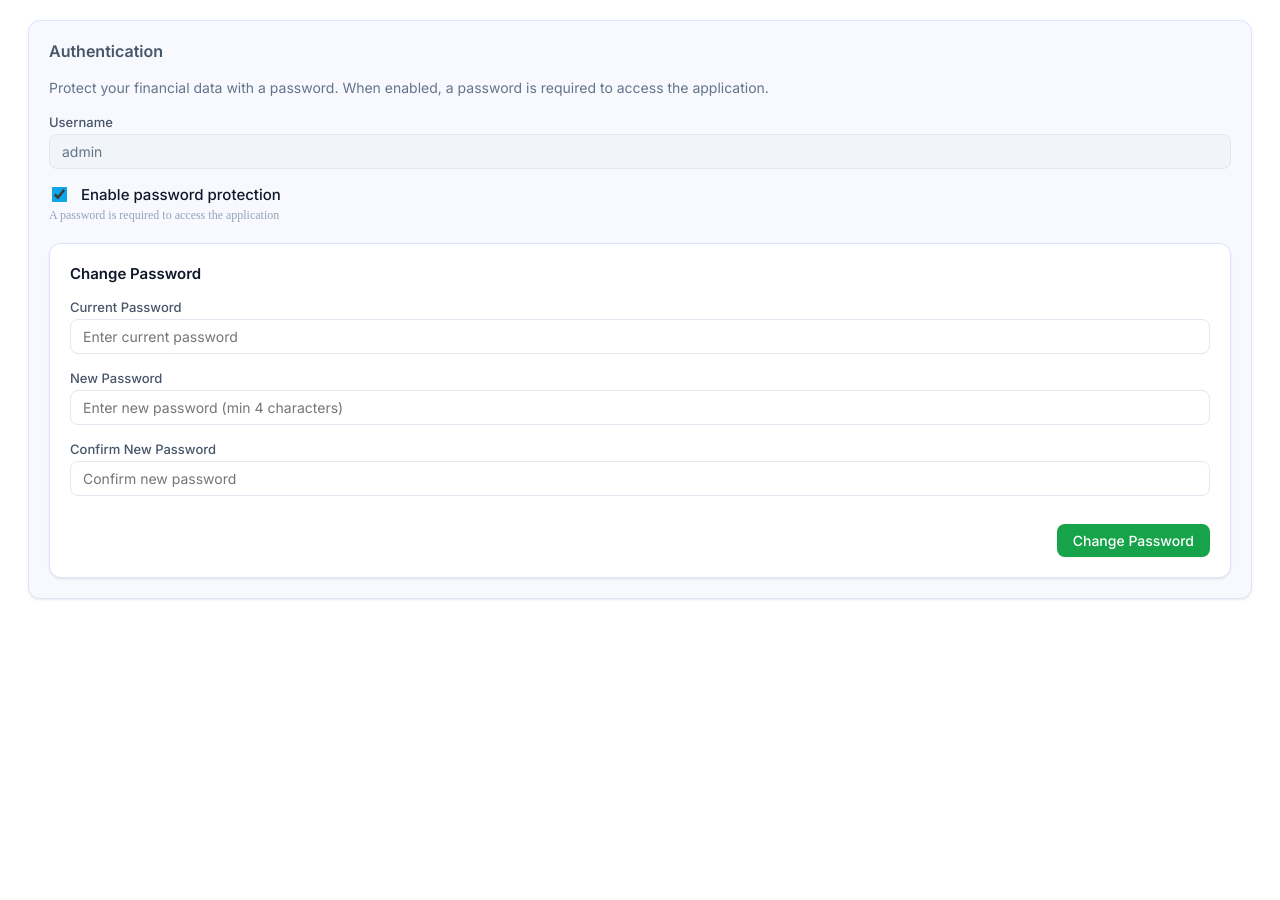
it: SecuritySettings › Change password (Password_Gate active, toggle stays ON) › should show success message after password change
Type "oldpass" into the password field labelled "Current Password" at (640, 336), box [70, 319, 1210, 354]
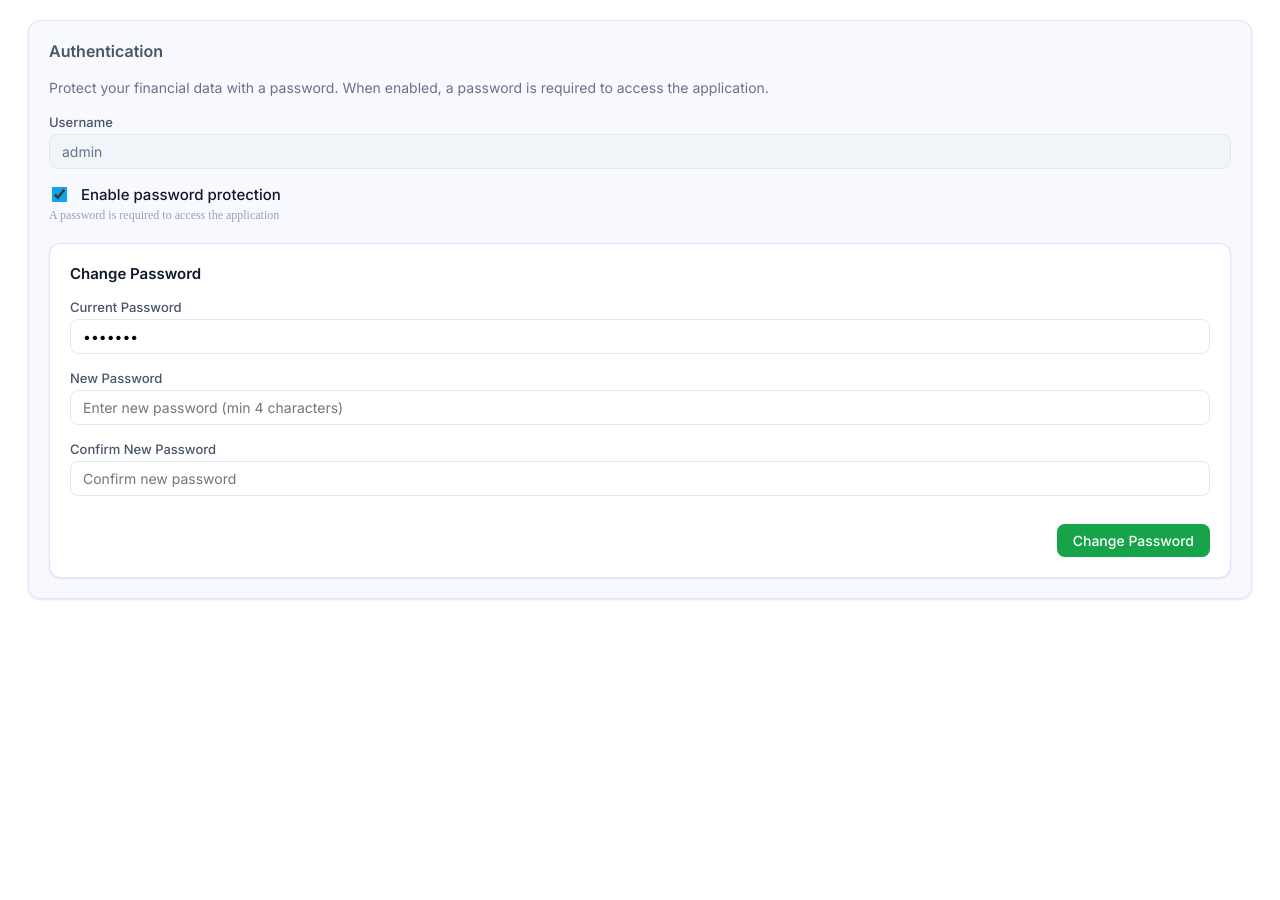
Type "newpass1" into the password field labelled "New Password" at (640, 408), box [70, 390, 1210, 425]
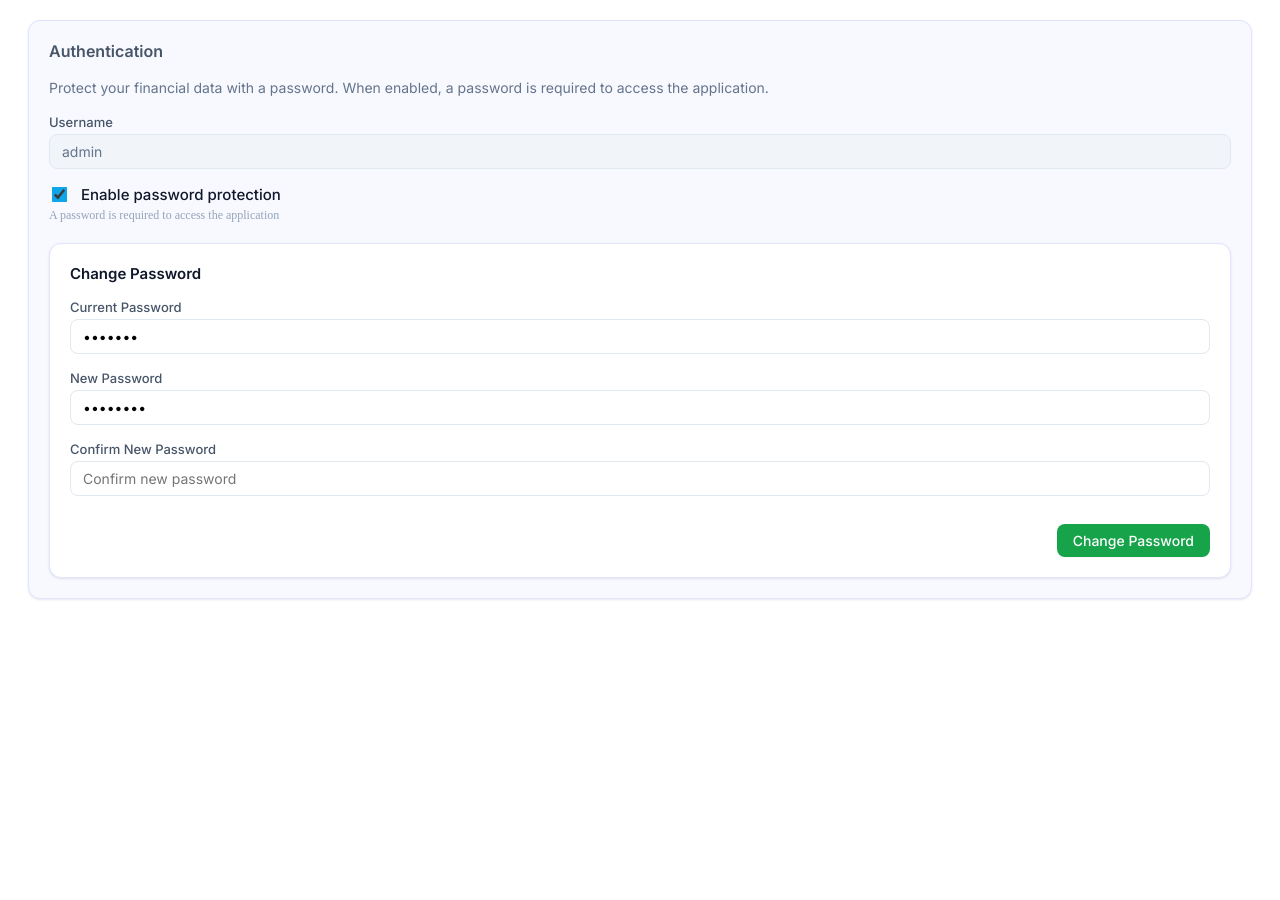
Type "newpass1" into the password field labelled "Confirm New Password" at (640, 478), box [70, 461, 1210, 496]
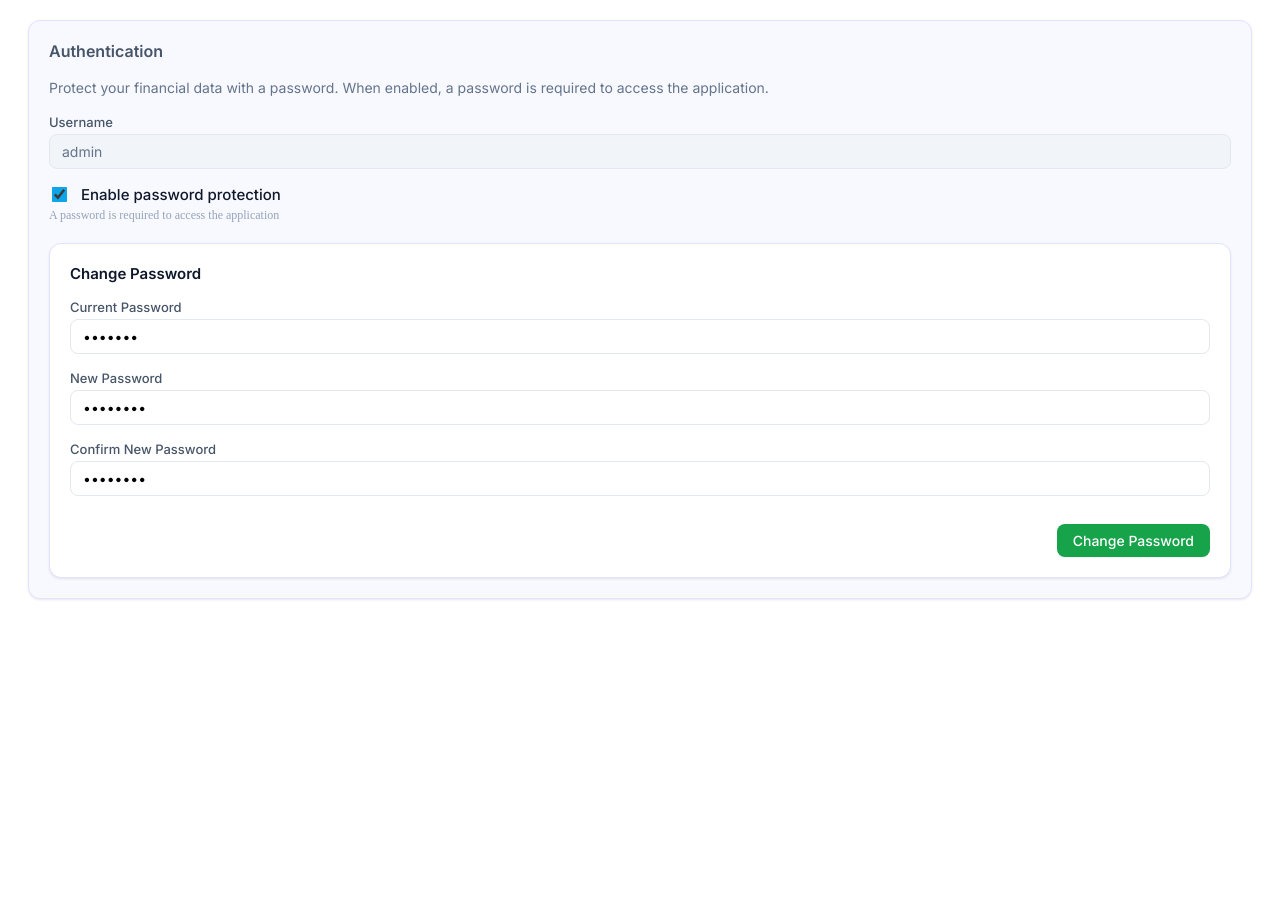
Click the button "Change Password" at (1133, 540), box [1057, 524, 1210, 557]
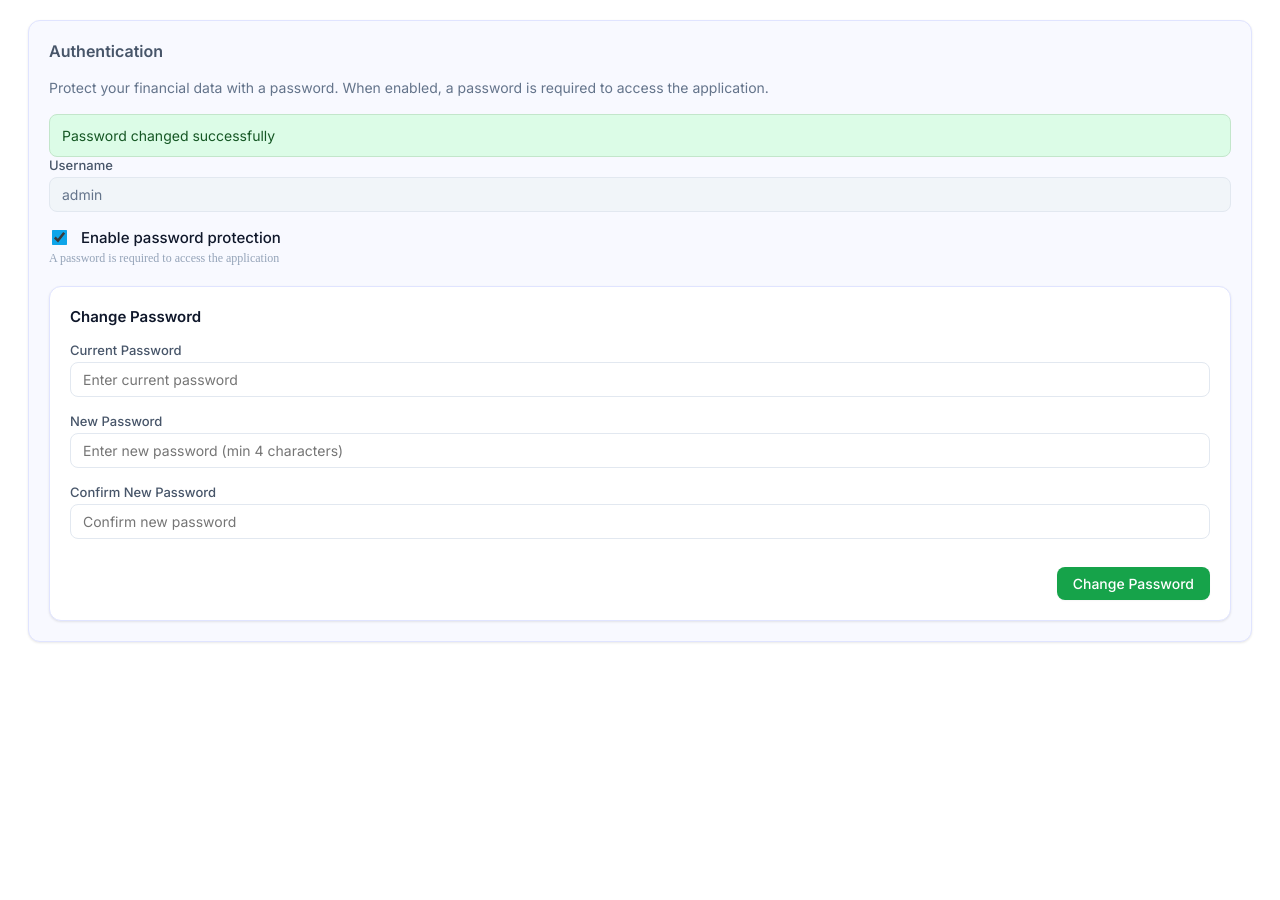
Expected: the text "Password changed successfully" is shown, [49, 114, 1231, 157]
